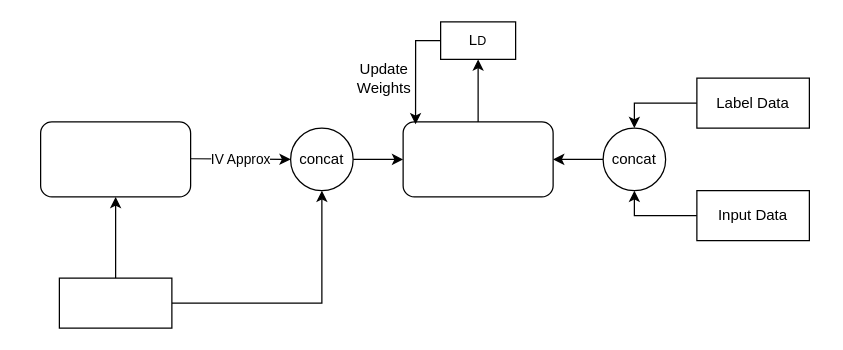
Image size: 843x350. Some labels were removed from this diagram. Here are the shapes that lost their labels. From the top down, the centre of each, then its label:
[115,159]: Generator Network
[477,159]: Discriminator Network
[115,302]: Noise
